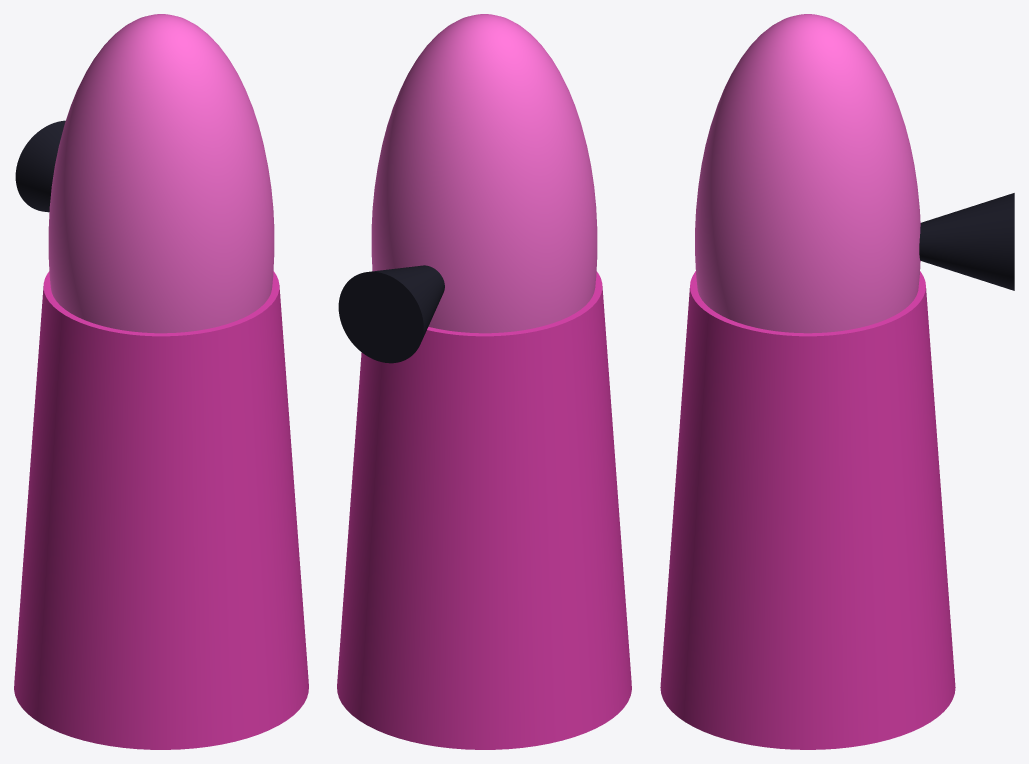
Rendered from meanie.glb.
The picture shows the model from 3 angles, left to right: view 1: azimuth 30°, elevation 25°; view 2: azimuth 150°, elevation 25°; view 3: azimuth 270°, elevation 25°; orthographic projection.
Visible parts, largest first — view 1: Base, Head, FaceCone; view 2: Base, Head, FaceCone; view 3: Base, Head, FaceCone.
Boxes of the visible parts, x1,y1,x2,y2 form: Base: (14, 271, 308, 749); Head: (48, 14, 274, 333); FaceCone: (15, 120, 65, 212); Base: (337, 271, 631, 749); Head: (371, 14, 597, 333); FaceCone: (338, 265, 444, 363); Base: (660, 271, 955, 749); Head: (695, 14, 920, 333); FaceCone: (919, 193, 1014, 290).
Size of the model in its own units: 0.6 by 1.5 by 0.72.
